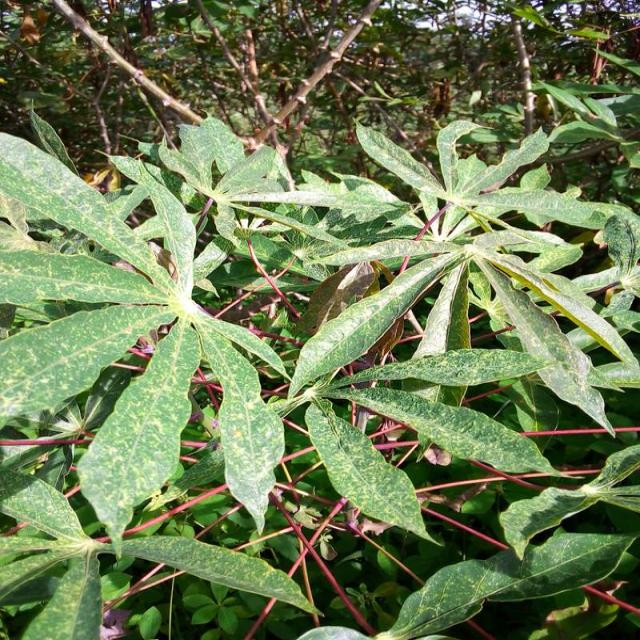cassava leaf: (2, 109, 639, 637), (76, 317, 202, 560), (305, 398, 442, 546)
